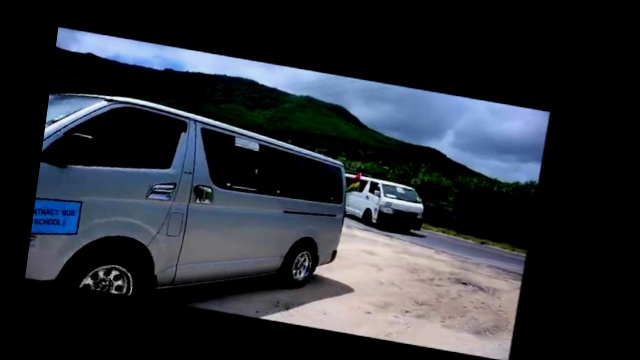van: (24, 80, 370, 330), (339, 168, 435, 243)
